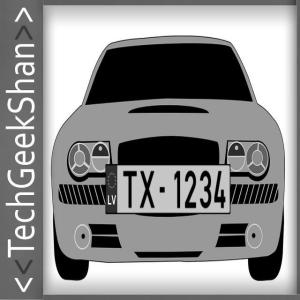Plate: (106, 164, 231, 214)
